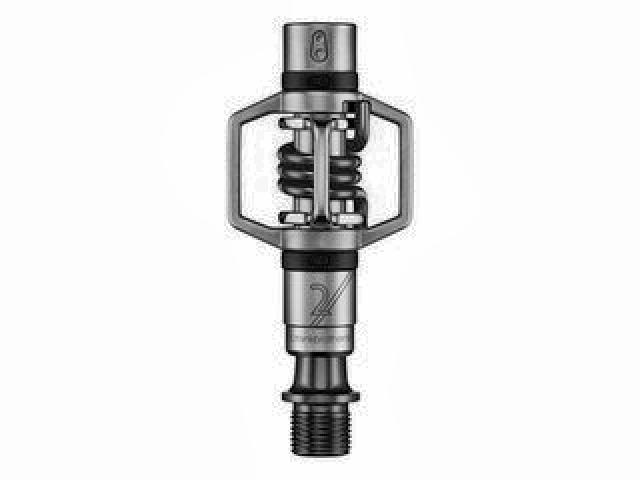pedal: (224, 17, 416, 463)
